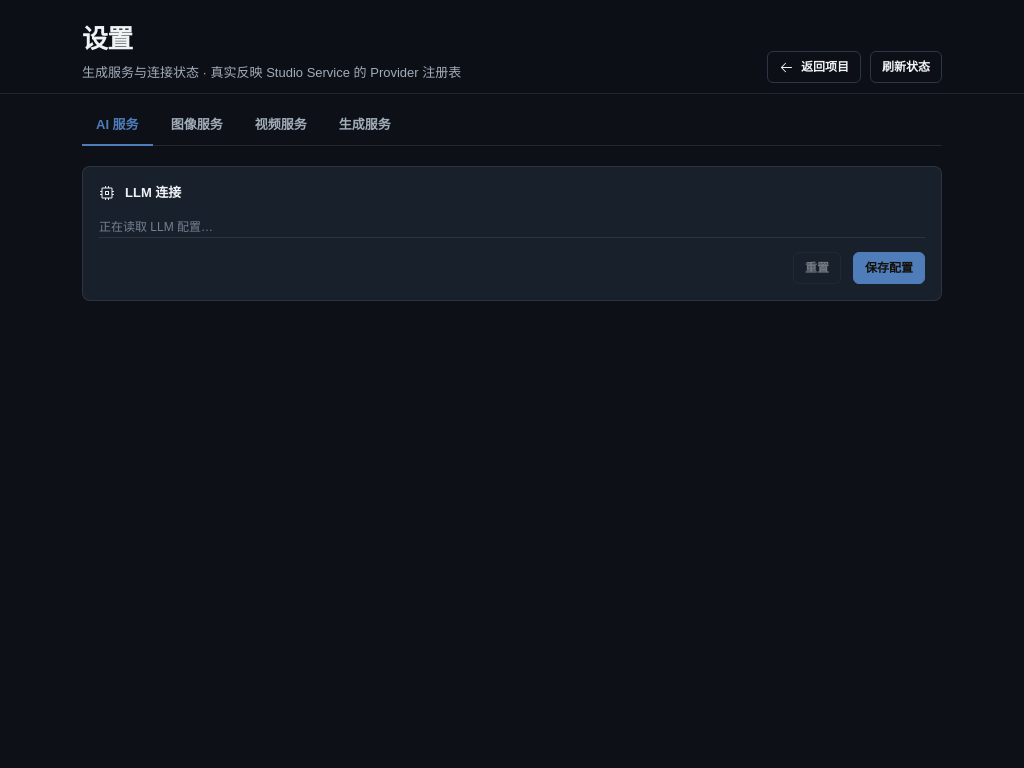
工作流 live 健康检查面板（SettingsPage · ComfyUI 卡） › ① 加载 workflow 目录渲染下拉并默认选中 is_default 项
Click the tab "生成服务" at [365, 127], box [325,108,405,146]
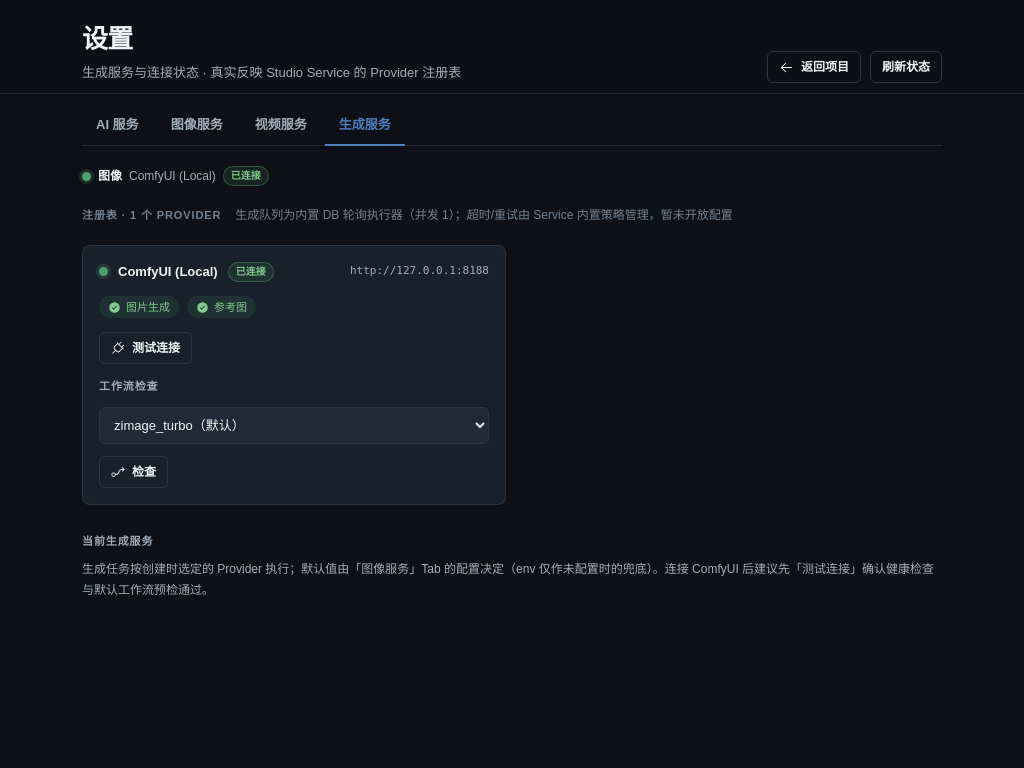
Expected: the dropdown named "工作流模板" shows "zimage_turbo（默认）", [99,407,489,444]
